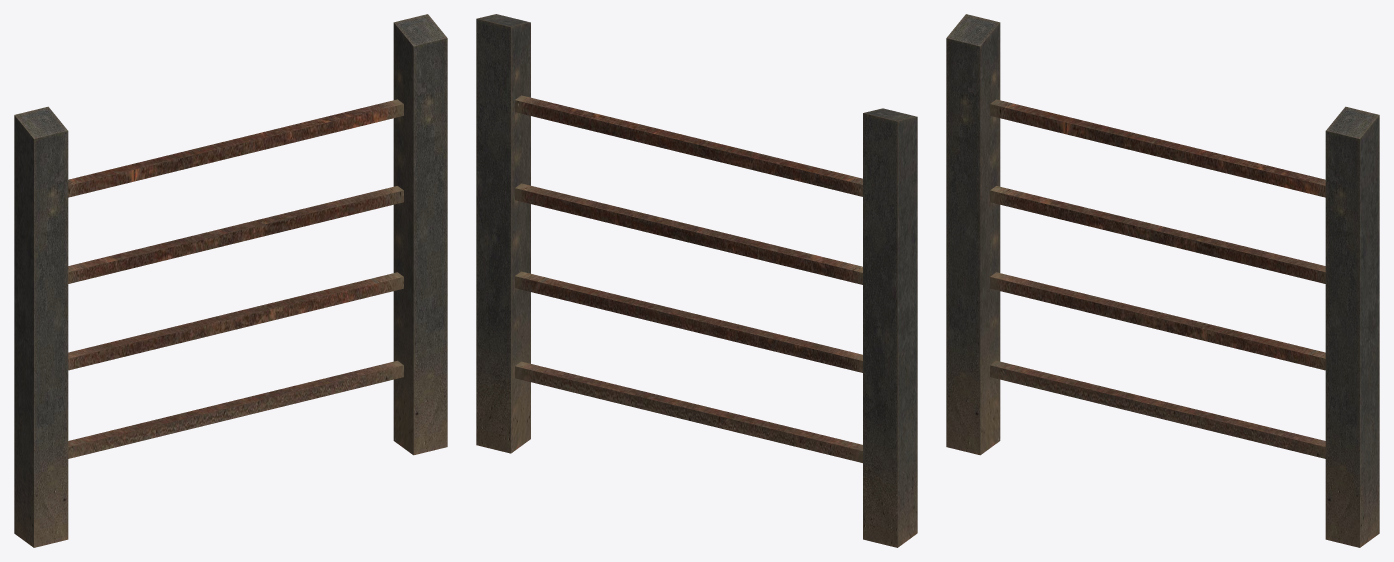
File: DesertBarrier 1 (Dark).glb
3 views of the same model, side by side, from view 1: azimuth 30°, elevation 25°; view 2: azimuth 150°, elevation 25°; view 3: azimuth 330°, elevation 25° (orthographic).
Parts seen in each view (by area): view 1: var3_var3_0.002; view 2: var3_var3_0.002; view 3: var3_var3_0.002.
Part boxes in pixels (left/top/right/bottom): var3_var3_0.002: left=14, top=14, right=447, bottom=547; var3_var3_0.002: left=476, top=14, right=917, bottom=547; var3_var3_0.002: left=946, top=14, right=1379, bottom=547.
Size of the model in its own units: 1.51 by 1.46 by 0.1251.
Materials: 1 (1 with a texture image).
